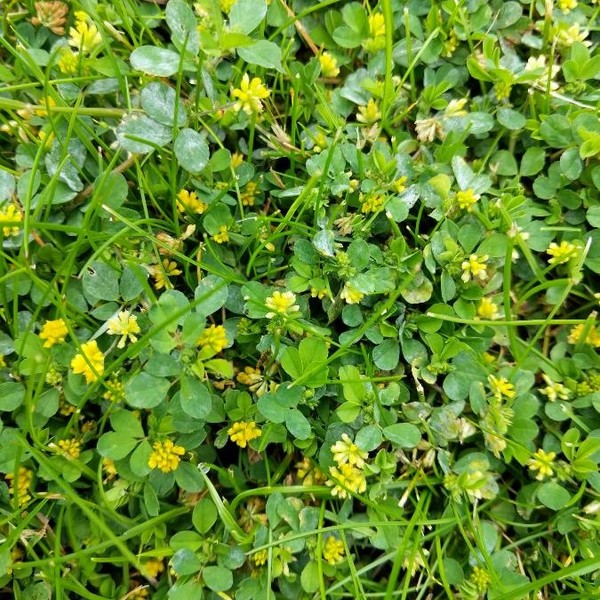obstacle: (62, 67, 580, 530)
